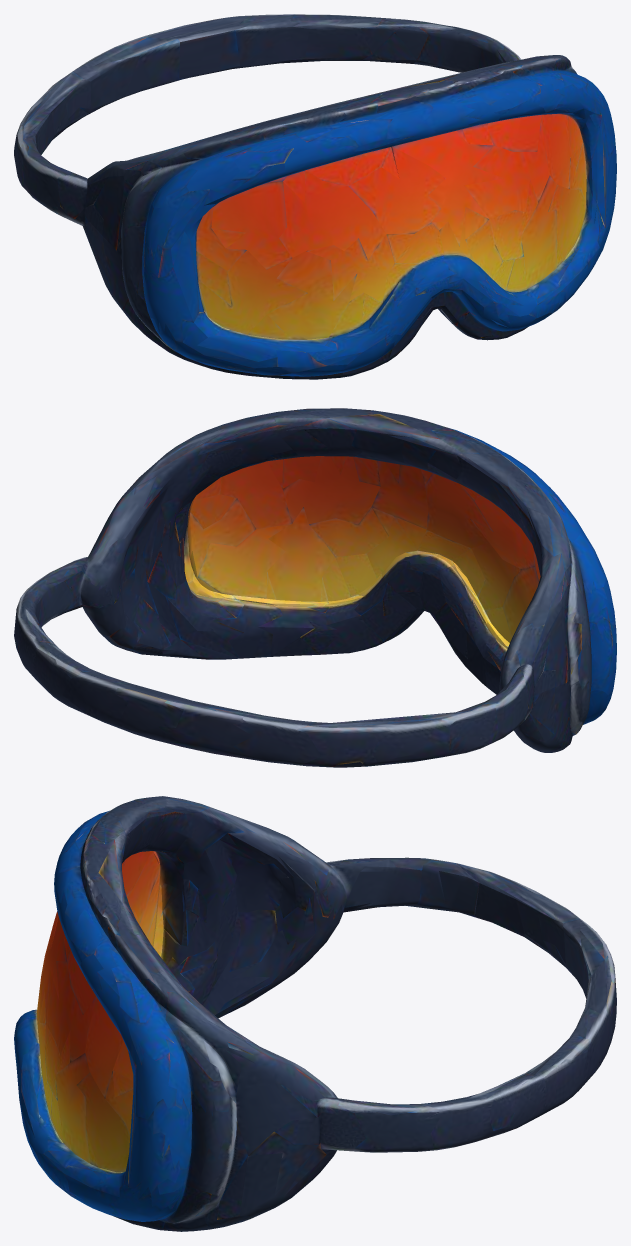
The model's file is udstyr-skibriller.glb.
3 views of the same model, one above another, from view 1: azimuth 30°, elevation 25°; view 2: azimuth 150°, elevation 25°; view 3: azimuth 270°, elevation 25° (orthographic). The views are drawn at different scales.
Bounding box in the file's own units: 1.9 × 0.9864 × 1.9.
1 material, 1 textured.
